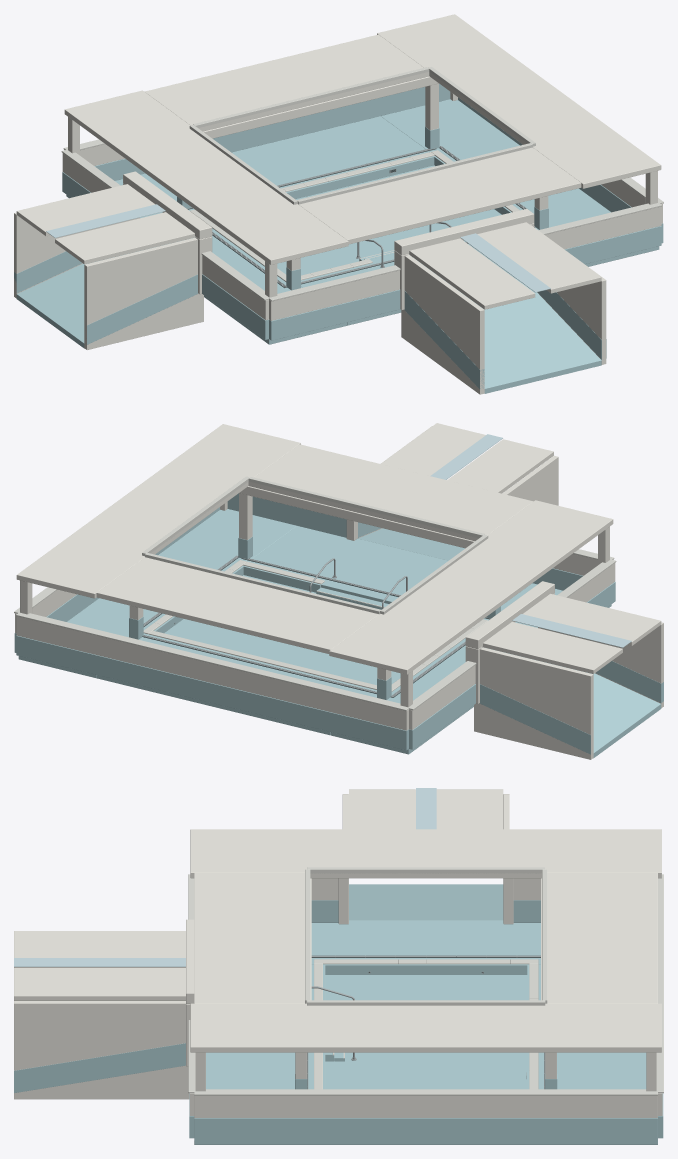
The model's file is formal_terrace.glb.
3 views of the same model, one above another, from view 1: azimuth 30°, elevation 25°; view 2: azimuth 150°, elevation 25°; view 3: azimuth 270°, elevation 25° (orthographic). The views are drawn at different scales.
Visible parts, largest first — view 1: Terrace_RoofSide-8, Terrace_RoofSide8, Terrace_RoofEnd6.75, Terrace_RoofEnd-6.75, Terrace_WestVestibule_SideWall1, Terrace_SouthVestibule, Terrace_DeckEnd-6.5, Terrace_DeckSide8, Terrace_SouthVestibule_SideWall-1, Terrace_North_Wainscot0, Terrace_SouthVestibule_Roof-1, Terrace_SouthVestibule_Roof1 (+37 smaller); view 2: Terrace_RoofSide-8, Terrace_RoofSide8, Terrace_RoofEnd-6.75, Terrace_RoofEnd6.75, Terrace_North_Wainscot0, Terrace_WestVestibule_SideWall-1, Terrace_North_Upper0, Terrace_DeckEnd6.5, Terrace_DeckSide8, Terrace_BasinFloor, Terrace_WestVestibule_Roof-1, Terrace_WestVestibule_Roof1 (+35 smaller); view 3: Terrace_RoofSide8, Terrace_RoofSide-8, Terrace_RoofEnd-6.75, Terrace_RoofEnd6.75, Terrace_SouthVestibule_SideWall1, Terrace_BasinFloor, Terrace_East_Wainscot0, Terrace_East_Upper0, Terrace_DeckSide-8, Terrace_WestVestibule, Terrace_SouthVestibule_Roof1, Terrace_SouthVestibule_Roof-1 (+23 smaller).
Part boxes in pixels (x1,y1,x2,y2): Terrace_RoofSide-8: [64, 90, 348, 264]; Terrace_RoofSide8: [377, 14, 661, 188]; Terrace_RoofEnd6.75: [299, 147, 581, 244]; Terrace_RoofEnd-6.75: [144, 34, 429, 131]; Terrace_WestVestibule_SideWall1: [84, 237, 203, 349]; Terrace_SouthVestibule: [462, 279, 601, 393]; Terrace_DeckEnd-6.5: [231, 116, 429, 188]; Terrace_DeckSide8: [381, 99, 659, 266]; Terrace_SouthVestibule_SideWall-1: [401, 255, 484, 394]; Terrace_North_Wainscot0: [94, 83, 450, 180]; Terrace_SouthVestibule_Roof-1: [409, 238, 535, 309]; Terrace_SouthVestibule_Roof1: [477, 222, 601, 293]; Terrace_RoofSide-8: [329, 500, 613, 674]; Terrace_RoofSide8: [16, 424, 300, 598]; Terrace_RoofEnd-6.75: [96, 557, 378, 653]; Terrace_RoofEnd6.75: [248, 444, 533, 541]; Terrace_North_Wainscot0: [16, 635, 408, 750]; Terrace_WestVestibule_SideWall-1: [474, 647, 593, 759]; Terrace_North_Upper0: [16, 616, 408, 730]; Terrace_DeckEnd6.5: [248, 526, 448, 603]; Terrace_DeckSide8: [18, 509, 296, 678]; Terrace_BasinFloor: [164, 575, 400, 685]; Terrace_WestVestibule_Roof-1: [482, 622, 622, 673]; Terrace_WestVestibule_Roof1: [522, 593, 661, 645]; Terrace_RoofSide8: [190, 1003, 661, 1052]; Terrace_RoofSide-8: [190, 829, 661, 878]; Terrace_RoofEnd-6.75: [547, 873, 657, 1003]; Terrace_RoofEnd6.75: [194, 873, 304, 1003]; Terrace_SouthVestibule_SideWall1: [14, 1001, 189, 1099]; Terrace_BasinFloor: [325, 975, 527, 1089]; Terrace_East_Wainscot0: [194, 1118, 657, 1140]; Terrace_East_Upper0: [194, 1096, 657, 1117]; Terrace_DeckSide-8: [311, 921, 540, 964]; Terrace_WestVestibule: [349, 884, 503, 920]; Terrace_SouthVestibule_Roof1: [14, 968, 185, 1000]; Terrace_SouthVestibule_Roof-1: [14, 931, 185, 957].
Size of what is drawn, in the model's own units: 26.23 by 5.55 by 25.23.
